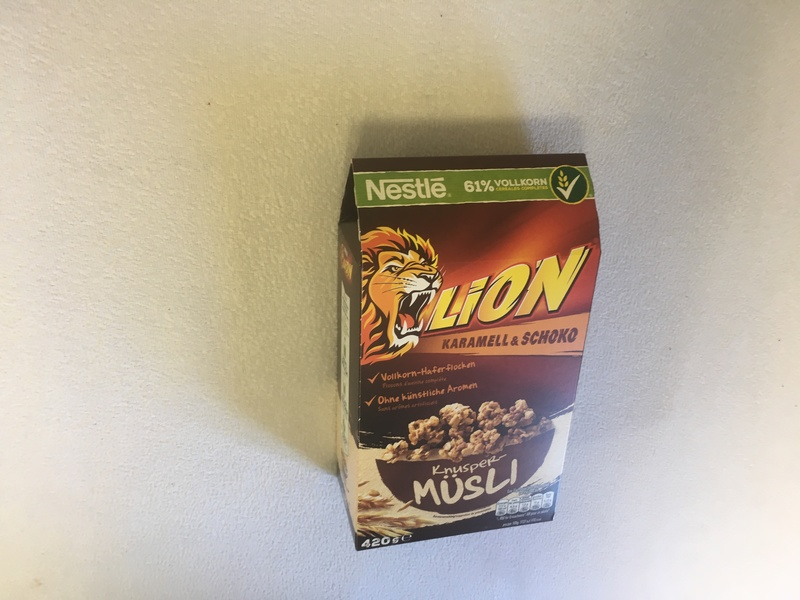cereals: (336, 153, 601, 550)
